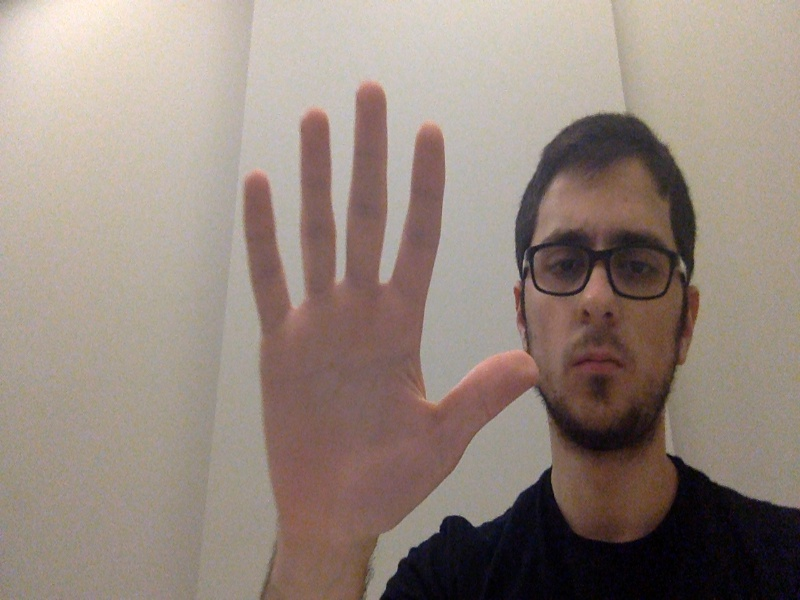5-hand: (238, 79, 544, 544)
